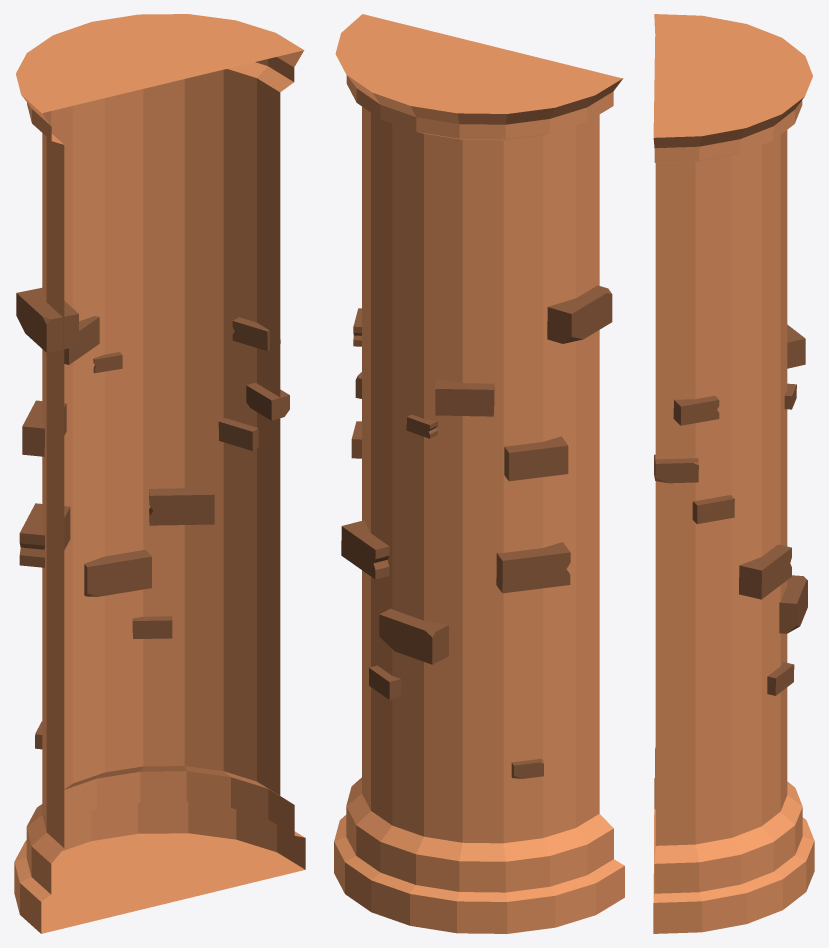
File: HalfColumn.fbx
3 renders of one model, left to right at view 1: azimuth 30°, elevation 25°; view 2: azimuth 150°, elevation 25°; view 3: azimuth 270°, elevation 25°, orthographic. The views are drawn at different scales.
Visible parts, largest first — view 1: Collumn.002, Collumn.002|Cube.004|Dupli|5, Collumn.002|Cube.004|Dupli|2, Collumn.002|Cube.003|Dupli|4, Collumn.002|Cube.003|Dupli|10, Collumn.002|Cube.004|Dupli|8, Collumn.002|Cube.002|Dupli|9, Collumn.002|Cube.002|Dupli|6, Collumn.002|Cube.002|Dupli|, Collumn.002|Cube.003|Dupli|7, Collumn.002|Cube.002|Dupli|3; view 2: Collumn.002, Collumn.002|Cube.003|Dupli|10, Collumn.002|Cube.004|Dupli|5, Collumn.002|Cube.004|Dupli|2, Collumn.002|Cube.002|Dupli|9, Collumn.002|Cube.002|Dupli|, Collumn.002|Cube.003|Dupli|4, Collumn.002|Cube.002|Dupli|3; view 3: Collumn.002, Collumn.002|Cube.003|Dupli|4, Collumn.002|Cube.004|Dupli|2, Collumn.002|Cube.003|Dupli|7, Collumn.002|Cube.004|Dupli|8, Collumn.002|Cube.002|Dupli|6, Collumn.002|Cube.002|Dupli|, Collumn.002|Cube.002|Dupli|3.
Boxes of the visible parts, x1,y1,x2,y2 form: Collumn.002: (14,14,305,933); Collumn.002|Cube.004|Dupli|5: (16,287,78,352); Collumn.002|Cube.004|Dupli|2: (84,550,151,596); Collumn.002|Cube.003|Dupli|4: (149,488,214,525); Collumn.002|Cube.003|Dupli|10: (19,503,70,567); Collumn.002|Cube.004|Dupli|8: (246,383,289,420); Collumn.002|Cube.002|Dupli|9: (22,400,66,456); Collumn.002|Cube.002|Dupli|6: (218,418,258,450); Collumn.002|Cube.002|Dupli|: (64,316,99,364); Collumn.002|Cube.003|Dupli|7: (232,317,280,350); Collumn.002|Cube.002|Dupli|3: (132,616,172,638); Collumn.002: (334,14,624,933); Collumn.002|Cube.003|Dupli|10: (496,542,570,593); Collumn.002|Cube.004|Dupli|5: (547,285,612,343); Collumn.002|Cube.004|Dupli|2: (379,608,448,664); Collumn.002|Cube.002|Dupli|9: (504,436,568,481); Collumn.002|Cube.002|Dupli|: (435,379,494,416); Collumn.002|Cube.003|Dupli|4: (341,520,389,579); Collumn.002|Cube.002|Dupli|3: (369,665,401,699); Collumn.002: (653,14,814,933); Collumn.002|Cube.003|Dupli|4: (739,544,791,599); Collumn.002|Cube.004|Dupli|2: (779,575,807,633); Collumn.002|Cube.003|Dupli|7: (673,396,719,425); Collumn.002|Cube.004|Dupli|8: (654,454,698,483); Collumn.002|Cube.002|Dupli|6: (692,495,734,524); Collumn.002|Cube.002|Dupli|: (787,324,805,368); Collumn.002|Cube.002|Dupli|3: (767,662,794,695).
Bounding box in the file's own units: 157 × 466 × 85.42.
